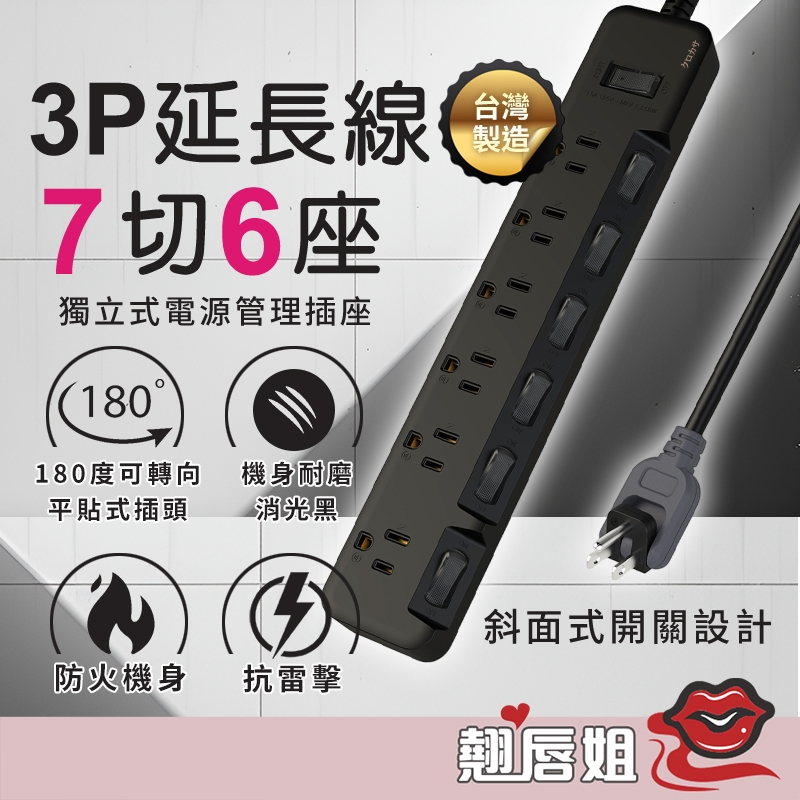socket: (321, 5, 719, 663)
